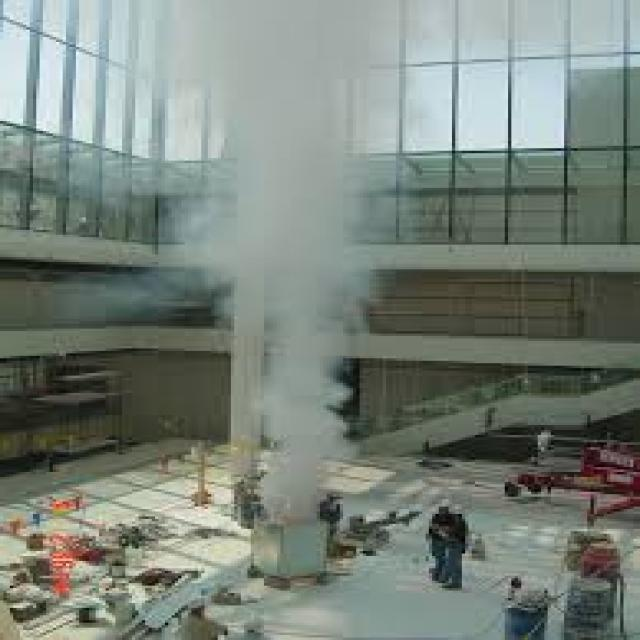Smoke: (166, 1, 402, 521)
